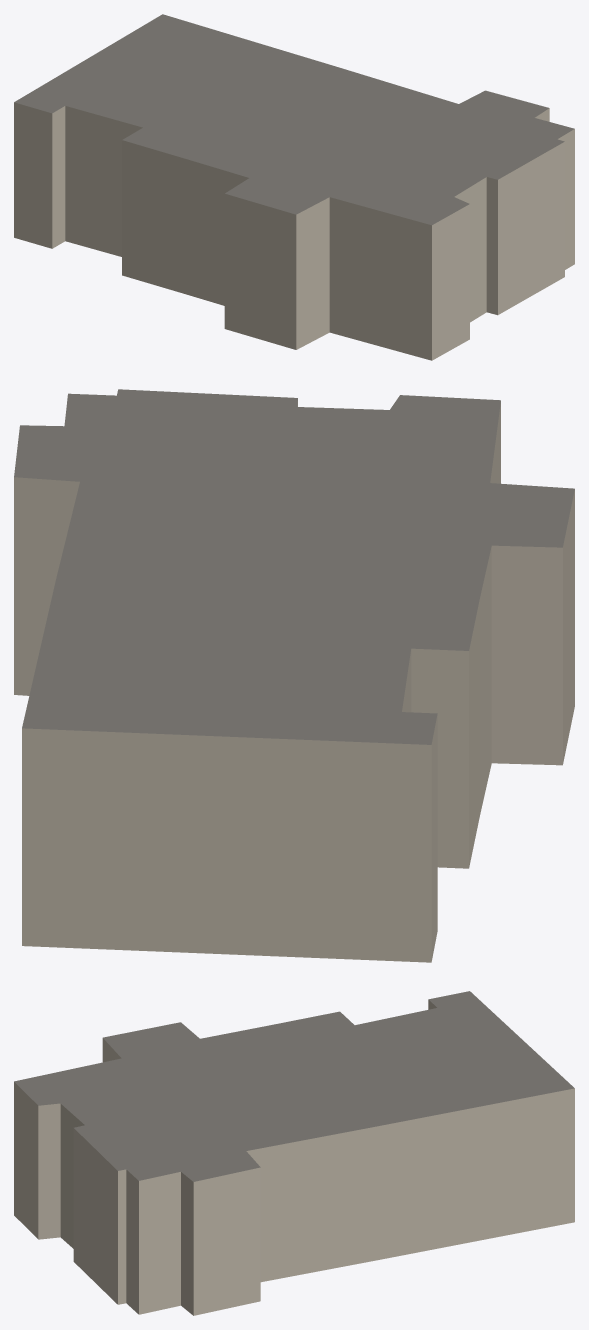
3 views of the same model, one above another, from view 1: azimuth 30°, elevation 25°; view 2: azimuth 150°, elevation 25°; view 3: azimuth 270°, elevation 25° (orthographic). The views are drawn at different scales.
Visible parts, largest first — view 1: HP-w734452863; view 2: HP-w734452863; view 3: HP-w734452863.
Part boxes in pixels (box(x1,y1,x2,y2)): HP-w734452863: box(14, 14, 574, 360); HP-w734452863: box(14, 389, 574, 962); HP-w734452863: box(14, 991, 574, 1315).
Size of the model in its own units: 55.06 by 18 by 68.34.
